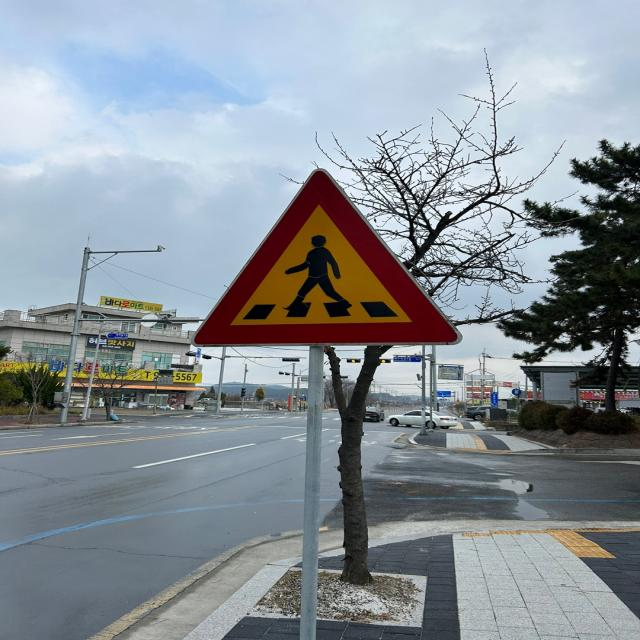Pedestrian_crossing: (172, 164, 467, 358)
